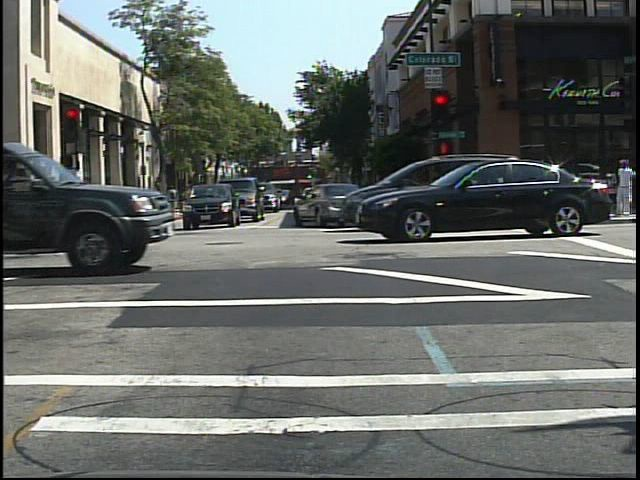person: (614, 152, 637, 218), (163, 180, 181, 220)
